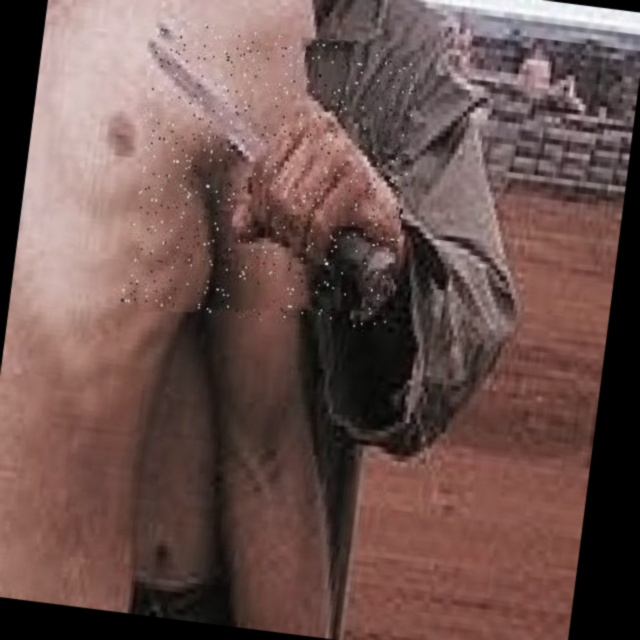Sharp-Object: (122, 18, 425, 336)
